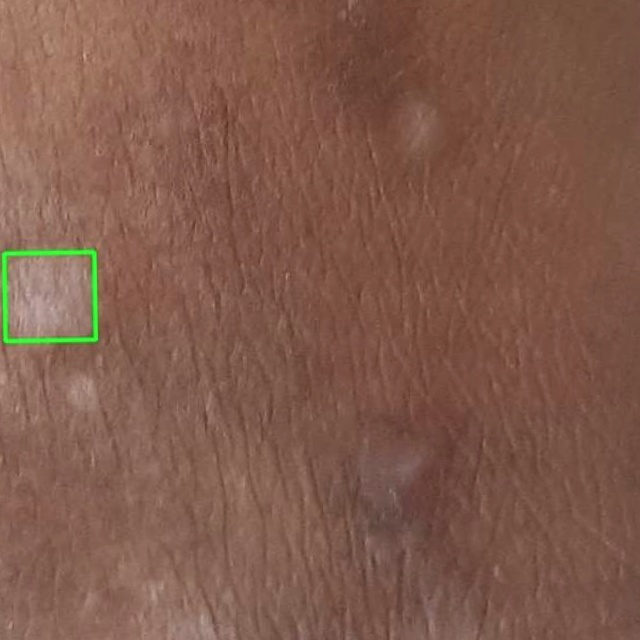Eczema: (4, 252, 95, 341)
